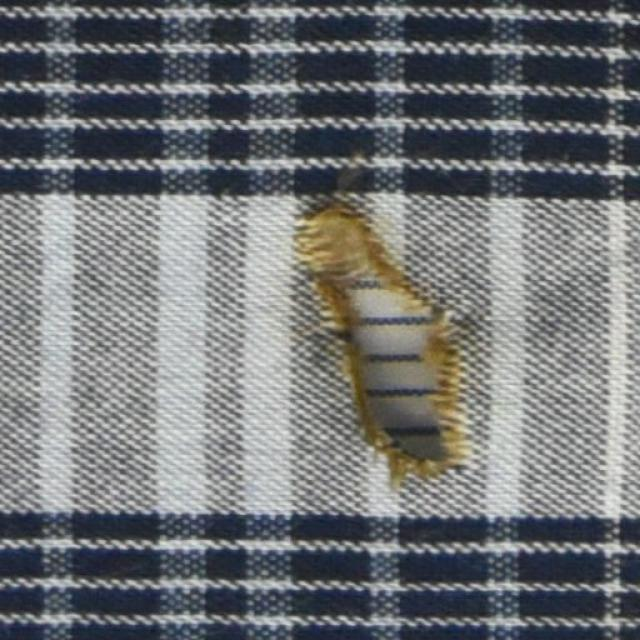Hole: (347, 280, 429, 443)
Stain: (301, 204, 459, 480)
